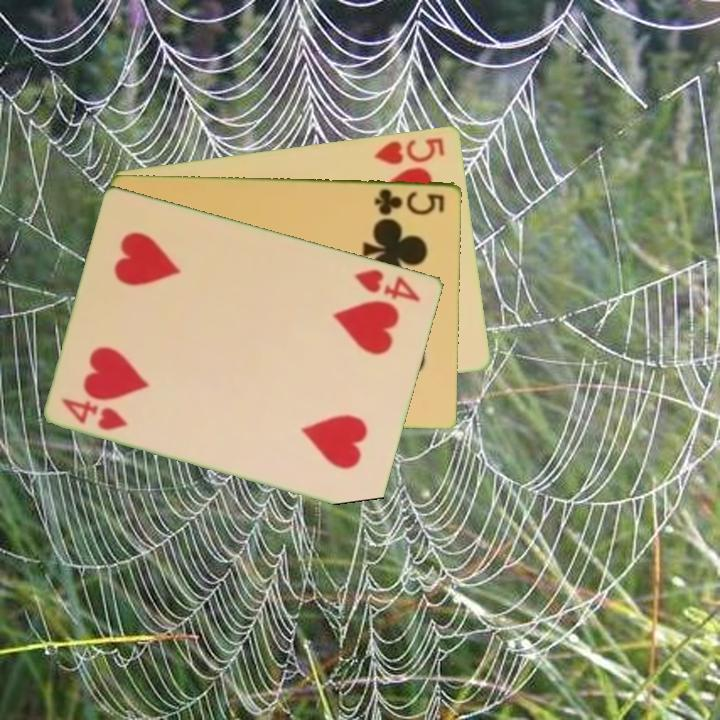4h: (351, 265, 423, 305), (58, 394, 131, 433)
5c: (371, 185, 448, 218)
5h: (371, 133, 448, 167)
